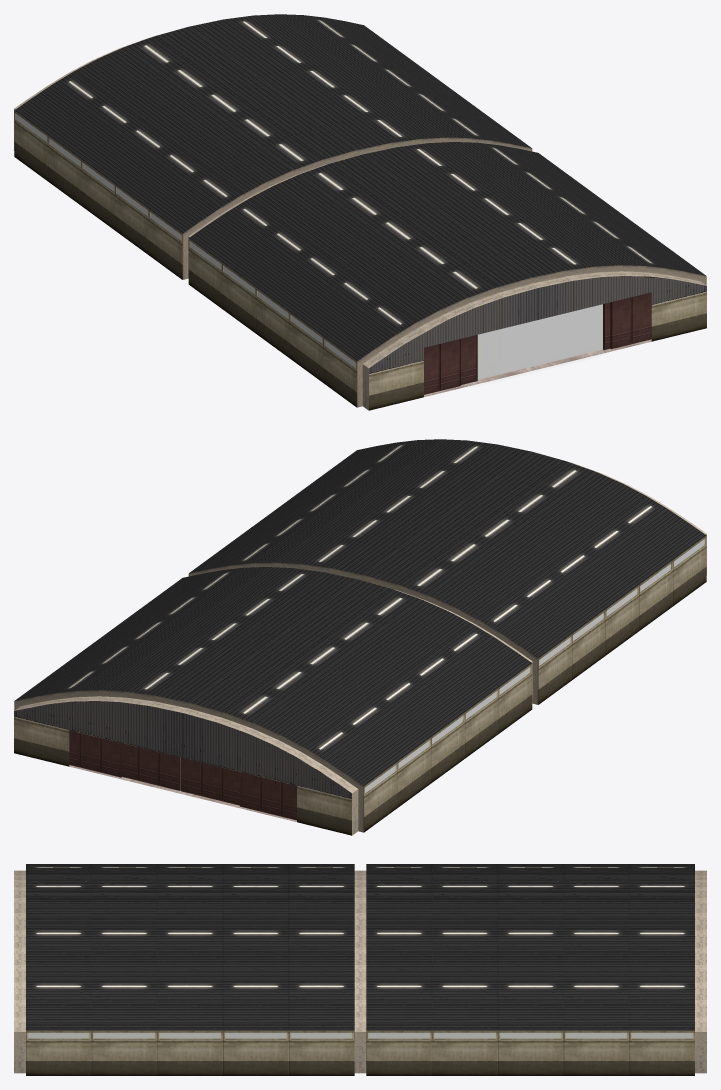
Rendered from burnin_rubber_3_hangar.glb.
3 renders of one model, top to bottom at view 1: azimuth 30°, elevation 25°; view 2: azimuth 150°, elevation 25°; view 3: azimuth 270°, elevation 25°, orthographic. The views are drawn at different scales.
Visible parts, largest first — view 1: Hangar, WindowsLightLarge, WindowsLight04, WindowsLight03; view 2: Hangar, WindowsLight03, WindowsLight04; view 3: Hangar, WindowsLight02, WindowsLight01.
Part boxes in pixels (x1,y1,x2,y2): Hangar: (14, 14, 706, 410); WindowsLightLarge: (477, 304, 602, 381); WindowsLight04: (15, 113, 181, 240); WindowsLight03: (190, 241, 355, 368); Hangar: (14, 439, 706, 835); WindowsLight03: (539, 539, 705, 665); WindowsLight04: (365, 666, 530, 793); Hangar: (14, 864, 706, 1075); WindowsLight02: (27, 1032, 352, 1038); WindowsLight01: (368, 1032, 693, 1038).
Size of the model in its own units: 59.99 by 16.03 by 105.
Materials: 3 (3 with a texture image).
